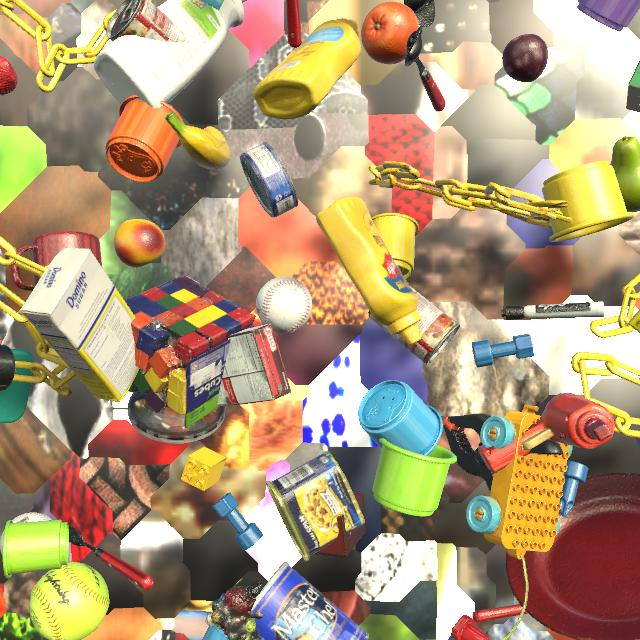ycb_002_master_chef_can: (251, 562, 369, 640)
ycb_004_sugar_box: (20, 247, 140, 402), (628, 309, 640, 334)
ycb_005_tomato_soup_can: (368, 286, 460, 365), (106, 0, 189, 43)
ycb_006_mustard_bottle: (316, 197, 422, 345), (253, 18, 362, 119)
ycb_007_tuna_fish_can: (240, 142, 298, 218)
ycb_008_pudding_box: (218, 323, 291, 406)
ycb_010_potted_meat_can: (265, 452, 365, 562)
ycb_011_banana: (165, 112, 231, 170)
ycb_012_strawberry: (0, 56, 18, 95)
ycb_015_peach: (114, 219, 165, 268)
ycb_016_pear: (610, 136, 640, 212)
ycb_017_orange: (361, 2, 419, 64)
ycb_018_plum: (502, 34, 548, 83)
